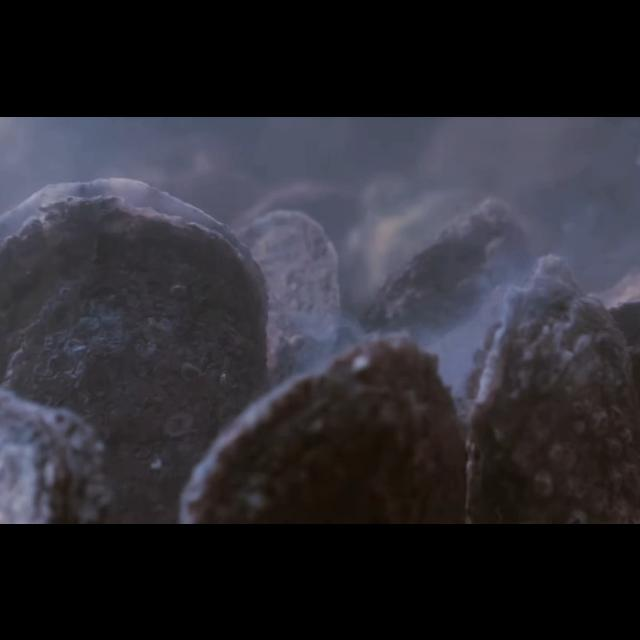Oyster-Closed: (187, 334, 469, 524), (465, 252, 640, 523), (364, 200, 530, 350), (238, 208, 346, 376), (0, 385, 112, 523)
Oyster-Open: (0, 175, 274, 523)
